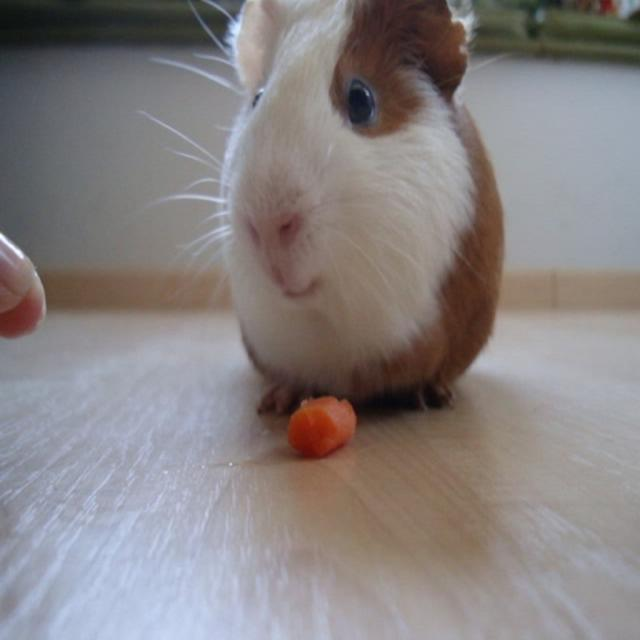rat: (215, 0, 499, 413)
